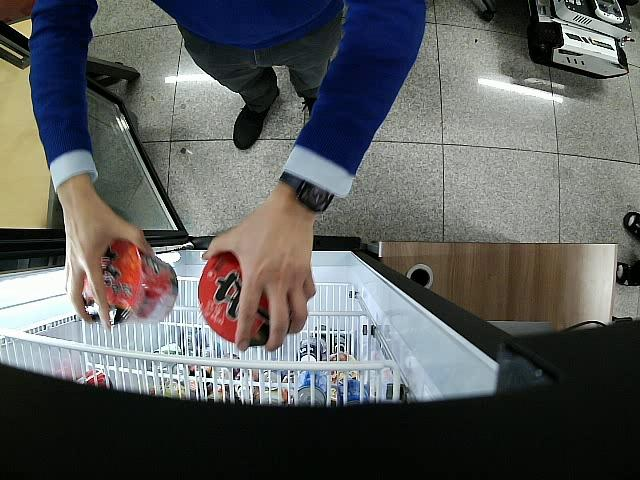00_hand: (201, 203, 316, 350), (59, 193, 154, 334)
01_shinRamen_L: (83, 239, 178, 327), (198, 250, 271, 345)
